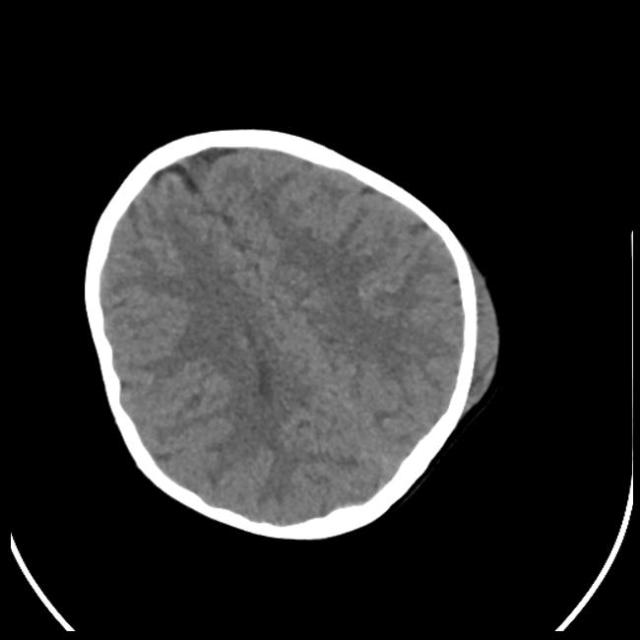lesion: (80, 124, 503, 542)
